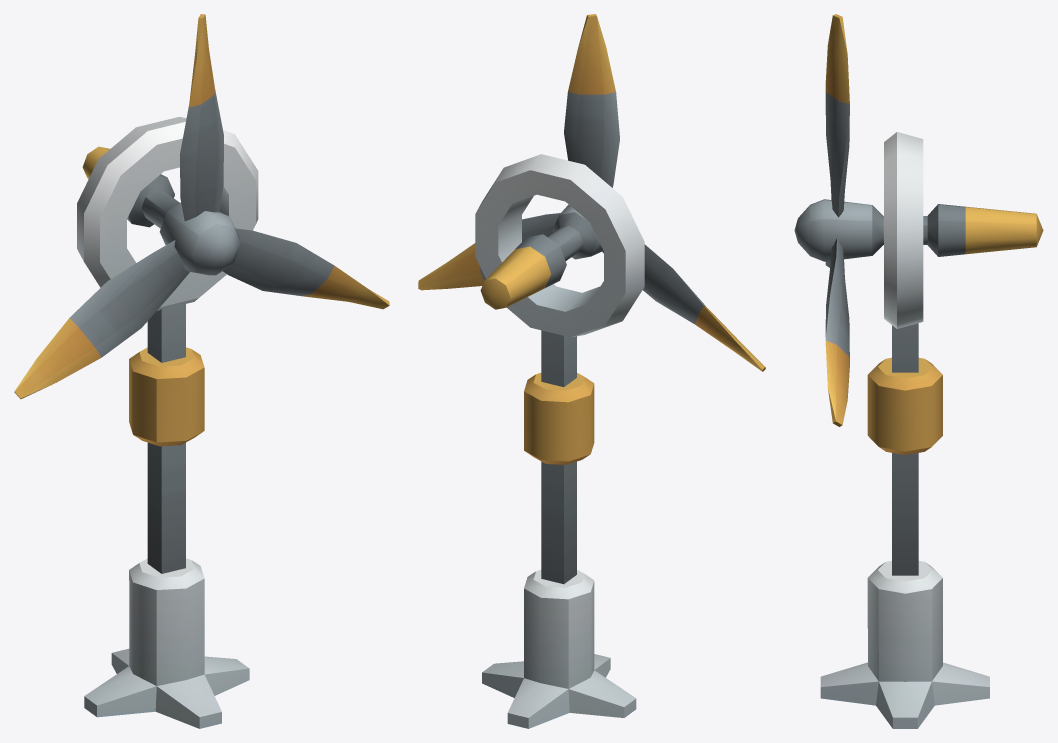
Rendered from wind-turbine.glb.
3 renders of one model, left to right at view 1: azimuth 30°, elevation 25°; view 2: azimuth 150°, elevation 25°; view 3: azimuth 270°, elevation 25°, orthographic. The views are drawn at different scales.
Parts seen in each view (by area): view 1: windturbine_tall_fan, windturbine_tall; view 2: windturbine_tall_fan, windturbine_tall; view 3: windturbine_tall, windturbine_tall_fan.
Boxes of the visible parts, box(x1,y1,x2,y2) form: windturbine_tall_fan: box(14, 14, 389, 399); windturbine_tall: box(84, 303, 249, 728); windturbine_tall_fan: box(418, 14, 765, 371); windturbine_tall: box(482, 330, 636, 728); windturbine_tall: box(820, 323, 989, 728); windturbine_tall_fan: box(794, 14, 1043, 426).
Size of the model in its own units: 1.67 by 3 by 0.9998.
1 material, 1 textured.
